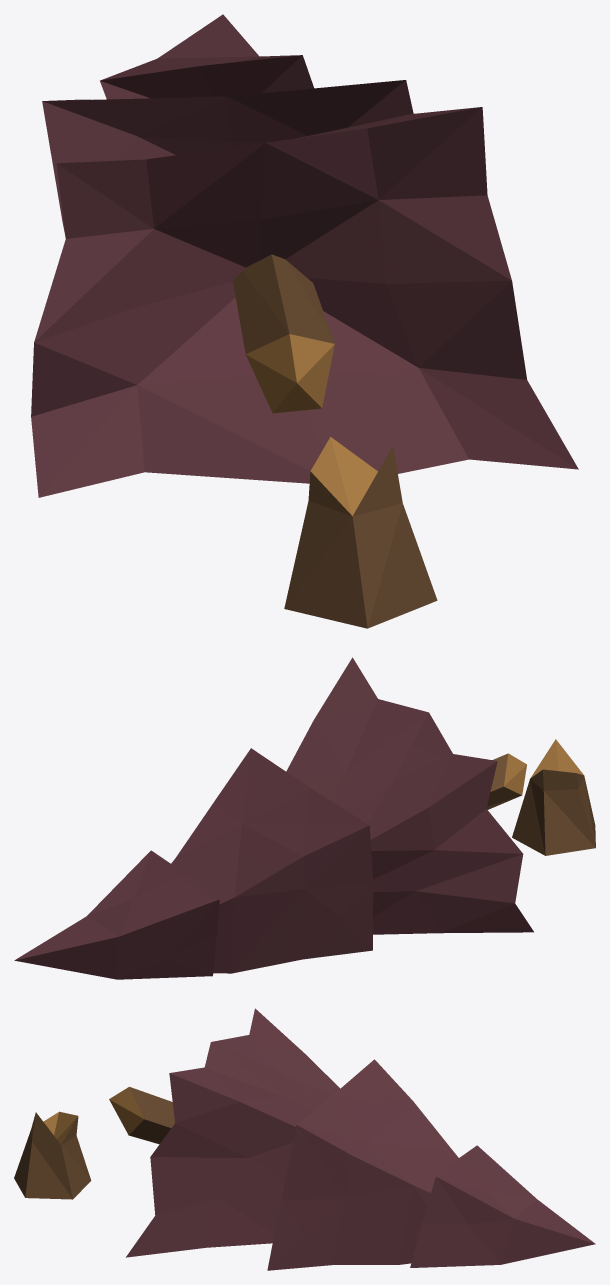
Rendered from tree-spruce-broken.fbx.
The picture shows the model from 3 angles, top to bottom: view 1: azimuth 30°, elevation 25°; view 2: azimuth 150°, elevation 25°; view 3: azimuth 270°, elevation 25°; orthographic projection. The views are drawn at different scales.
Visible parts, largest first — view 1: tree-spruce-broken; view 2: tree-spruce-broken; view 3: tree-spruce-broken.
Boxes of the visible parts, x1,y1,x2,y2 form: tree-spruce-broken: (31,14,578,628); tree-spruce-broken: (14,657,595,979); tree-spruce-broken: (14,1008,595,1270).
Bounding box in the file's own units: 2.92 × 1.78 × 5.37.
